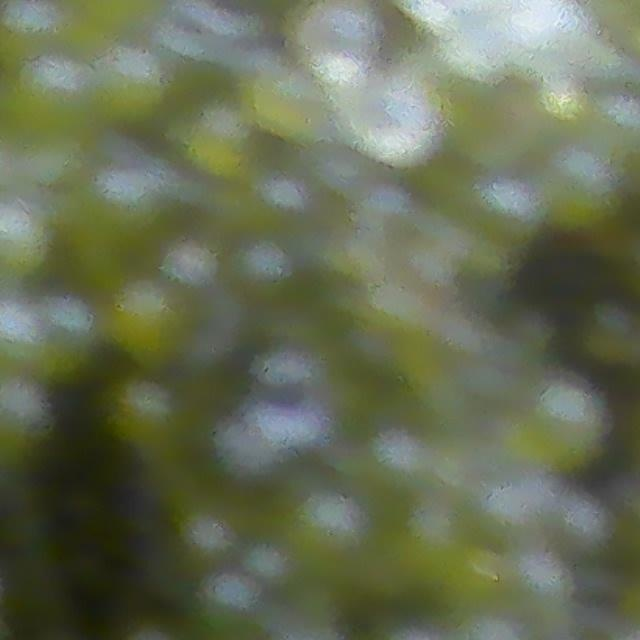SeaGrape: (101, 275, 193, 366), (341, 86, 441, 169), (282, 486, 372, 571), (414, 0, 513, 73), (105, 375, 190, 460), (292, 0, 381, 80), (513, 0, 581, 68), (159, 233, 223, 293), (199, 569, 259, 630)
